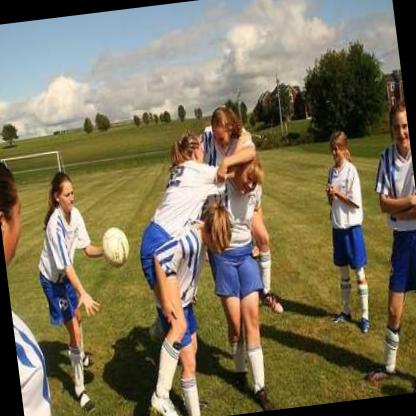ball: (100, 225, 132, 268)
